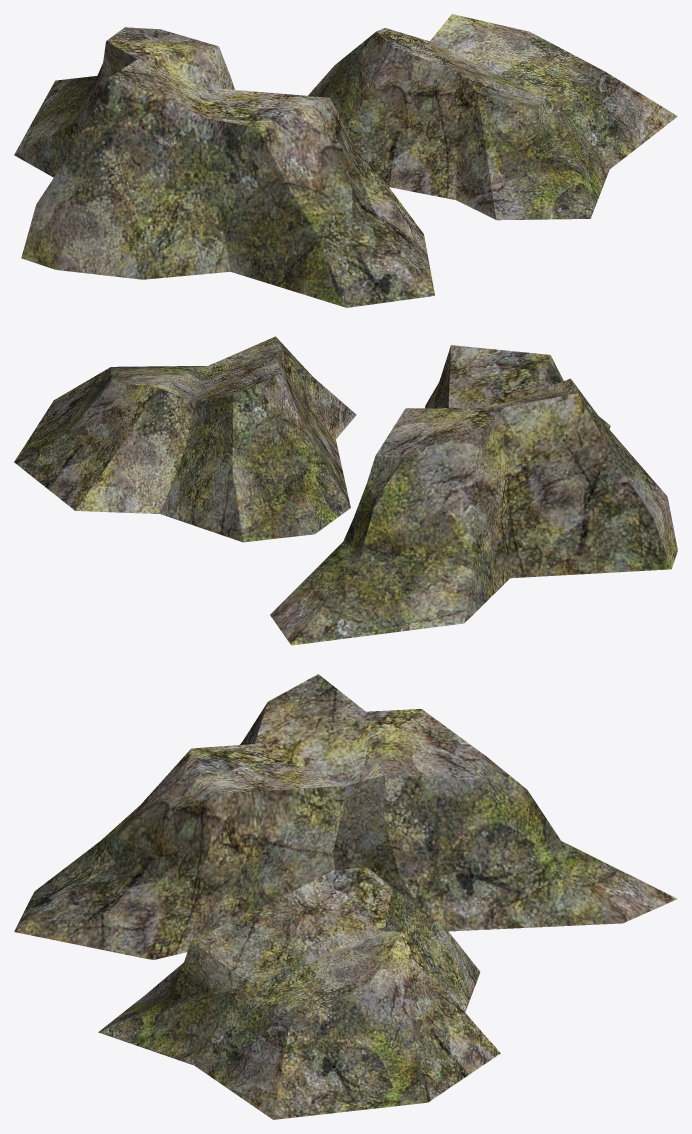
3 views of the same model, one above another, from view 1: azimuth 30°, elevation 25°; view 2: azimuth 150°, elevation 25°; view 3: azimuth 270°, elevation 25° (orthographic). The views are drawn at different scales.
Visible parts, largest first — view 1: _r_grp4B; view 2: _r_grp4B; view 3: _r_grp4B.
Boxes of the visible parts, x1,y1,x2,y2 form: _r_grp4B: [14, 14, 677, 307]; _r_grp4B: [14, 336, 677, 645]; _r_grp4B: [14, 674, 677, 1119].
Size of the model in its own units: 18.3 by 4.3 by 15.67.
1 material, 1 textured.
